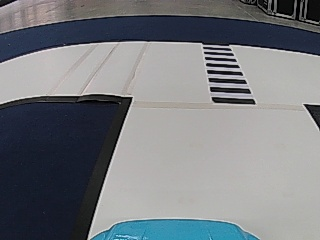CrossWalk: (201, 45, 256, 104)
